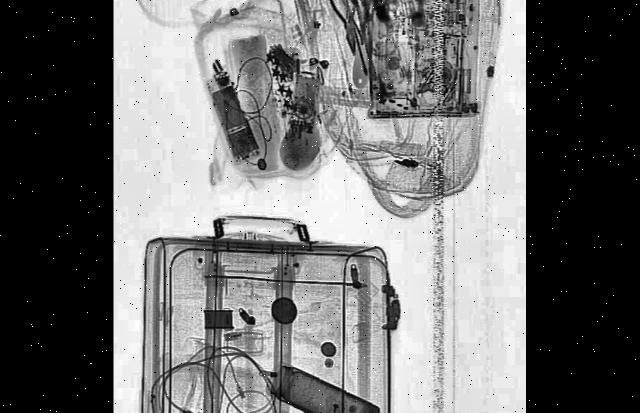Pliers: (328, 0, 367, 61)
